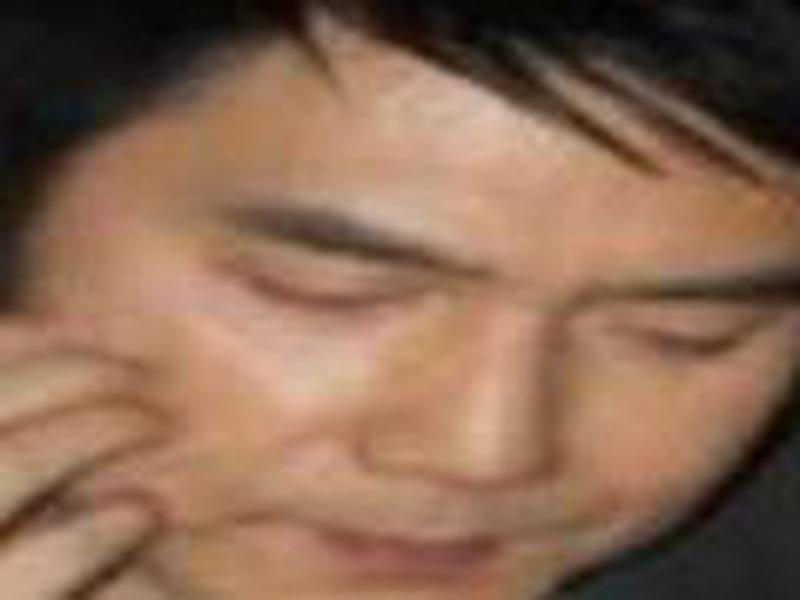without_mask: (27, 25, 789, 600)
